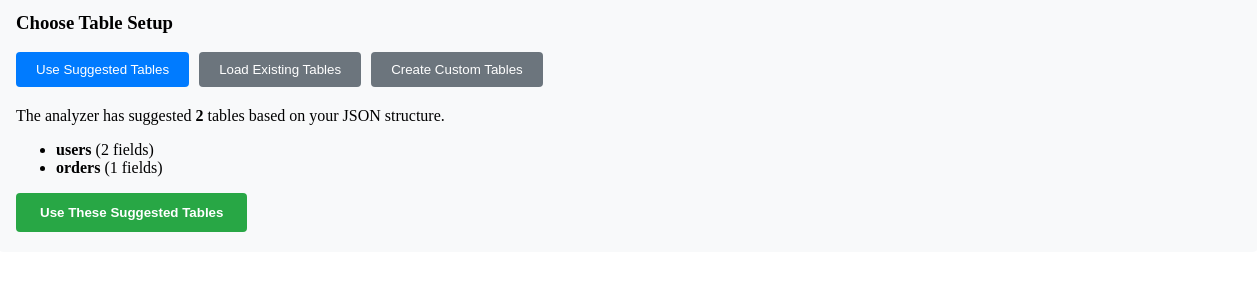
TableSelector › should load existing tables when switching to existing mode
The width and height of the screenshot is (1257, 304).
Click the button "Load Existing Tables".
click(280, 70)  # box [199,52,361,87]
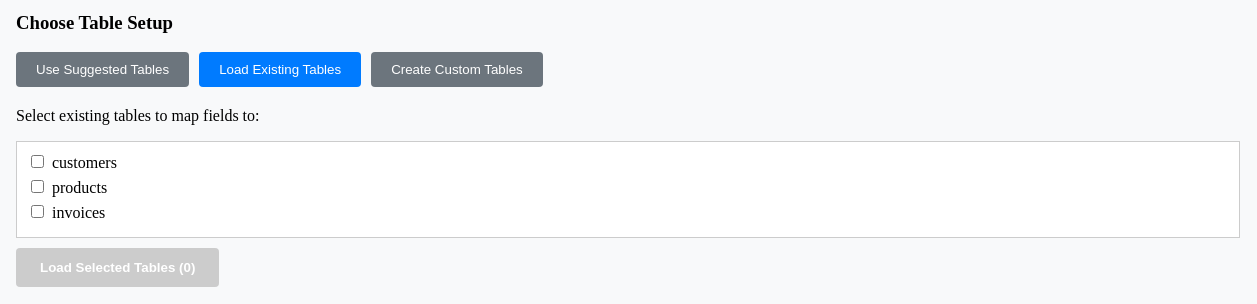
expect the text "customers" is shown: met, box [31,154,117,171]
expect the text "products" is shown: met, box [31,179,107,196]
expect the text "invoices" is shown: met, box [31,204,105,221]
